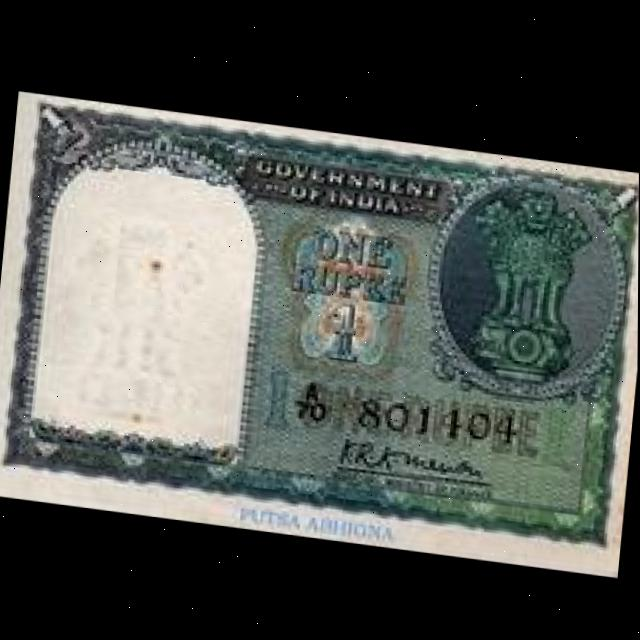banknote: (0, 87, 639, 571)
